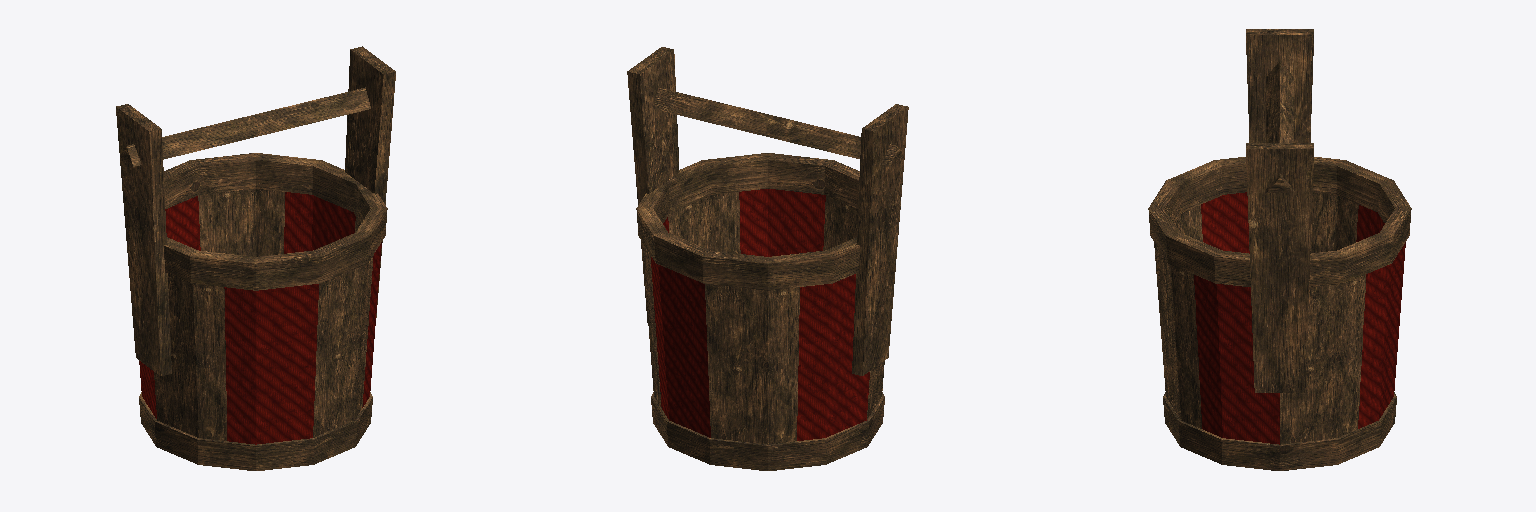
The picture shows the model from 3 angles: view 1: azimuth 30°, elevation 25°; view 2: azimuth 150°, elevation 25°; view 3: azimuth 270°, elevation 25°; orthographic projection.
Visible parts, largest first — view 1: polySurface1_polySurface1Shape; view 2: polySurface1_polySurface1Shape; view 3: polySurface1_polySurface1Shape.
Part boxes in pixels (x1,y1,x2,y2): polySurface1_polySurface1Shape: (116, 46, 395, 470); polySurface1_polySurface1Shape: (627, 47, 908, 470); polySurface1_polySurface1Shape: (1148, 29, 1411, 470).
Bounding box in the file's own units: 0.6191 × 0.7624 × 0.5449.
Materials: 1 (1 with a texture image).